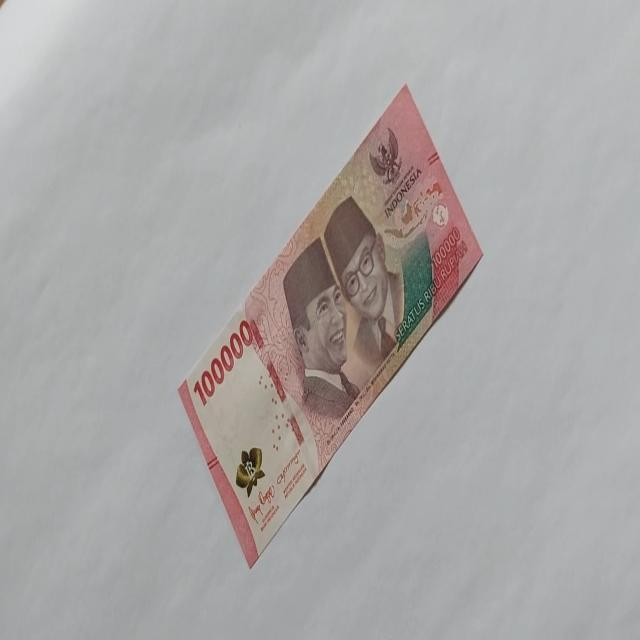seratus ribu rupiah: (176, 82, 484, 568)
